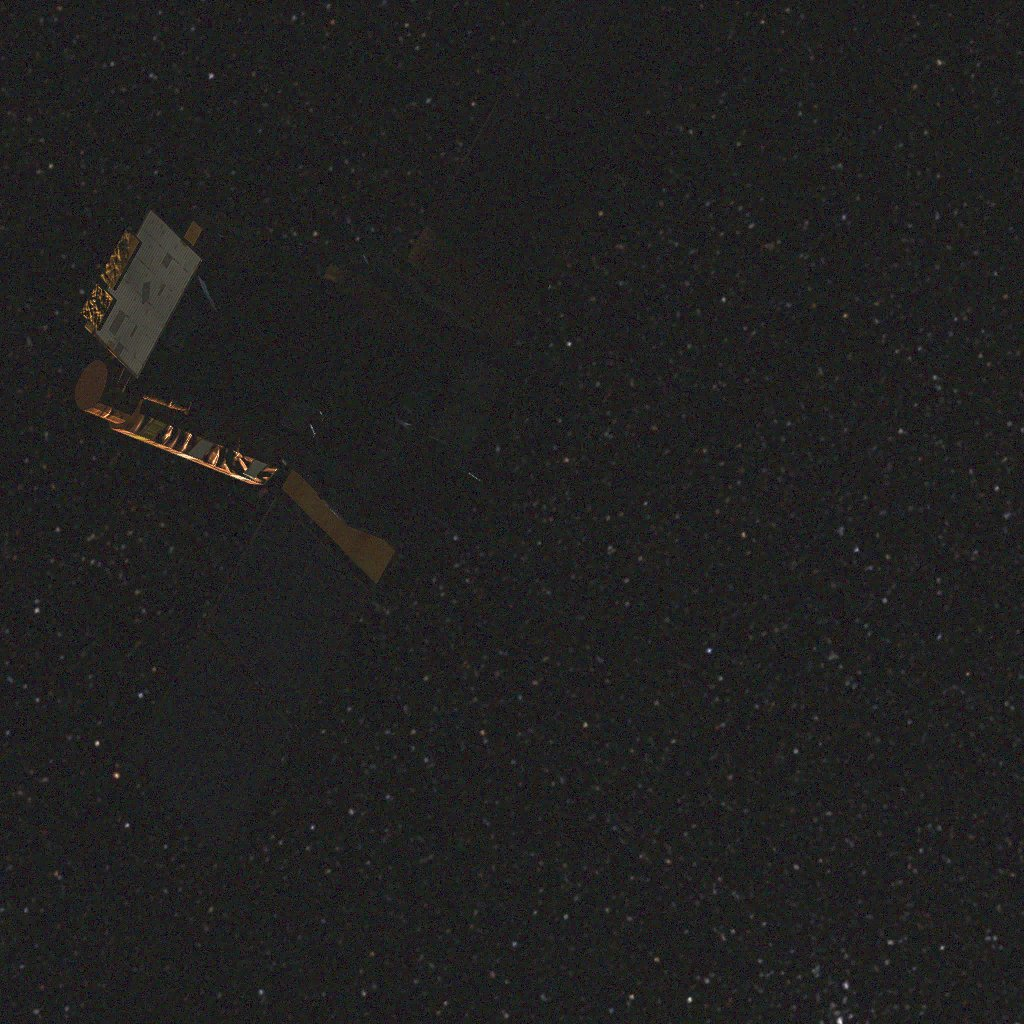soho: (75, 0, 690, 857)
